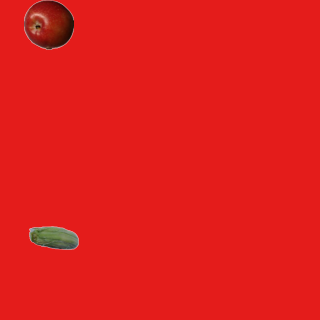Apple Braeburn: (23, 0, 73, 49)
Corn Husk: (28, 214, 78, 264)
